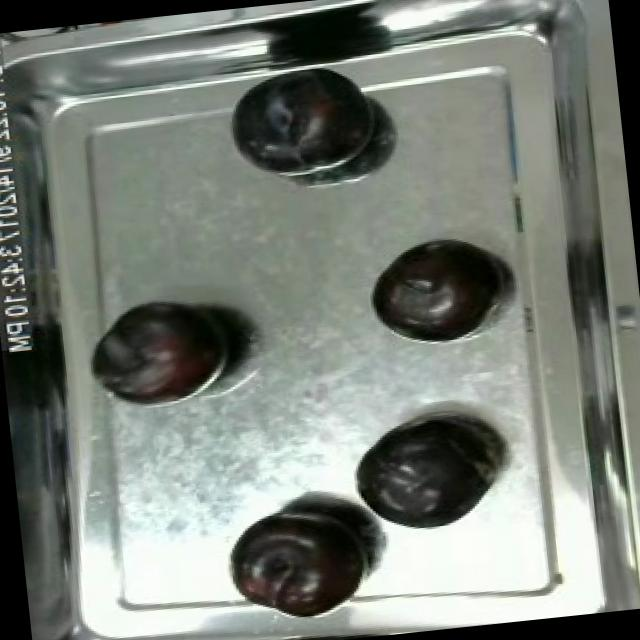Fruit: (216, 57, 386, 187), (222, 494, 380, 626), (86, 287, 246, 412), (343, 410, 496, 538), (362, 230, 503, 336)
